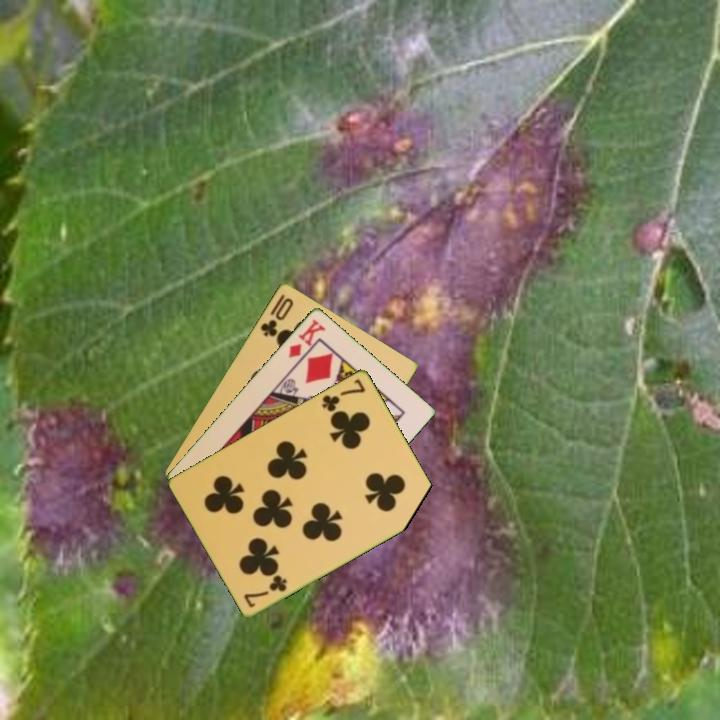10c: (257, 290, 296, 339)
7c: (318, 375, 368, 415), (240, 571, 290, 610)
Kd: (285, 315, 328, 361)
